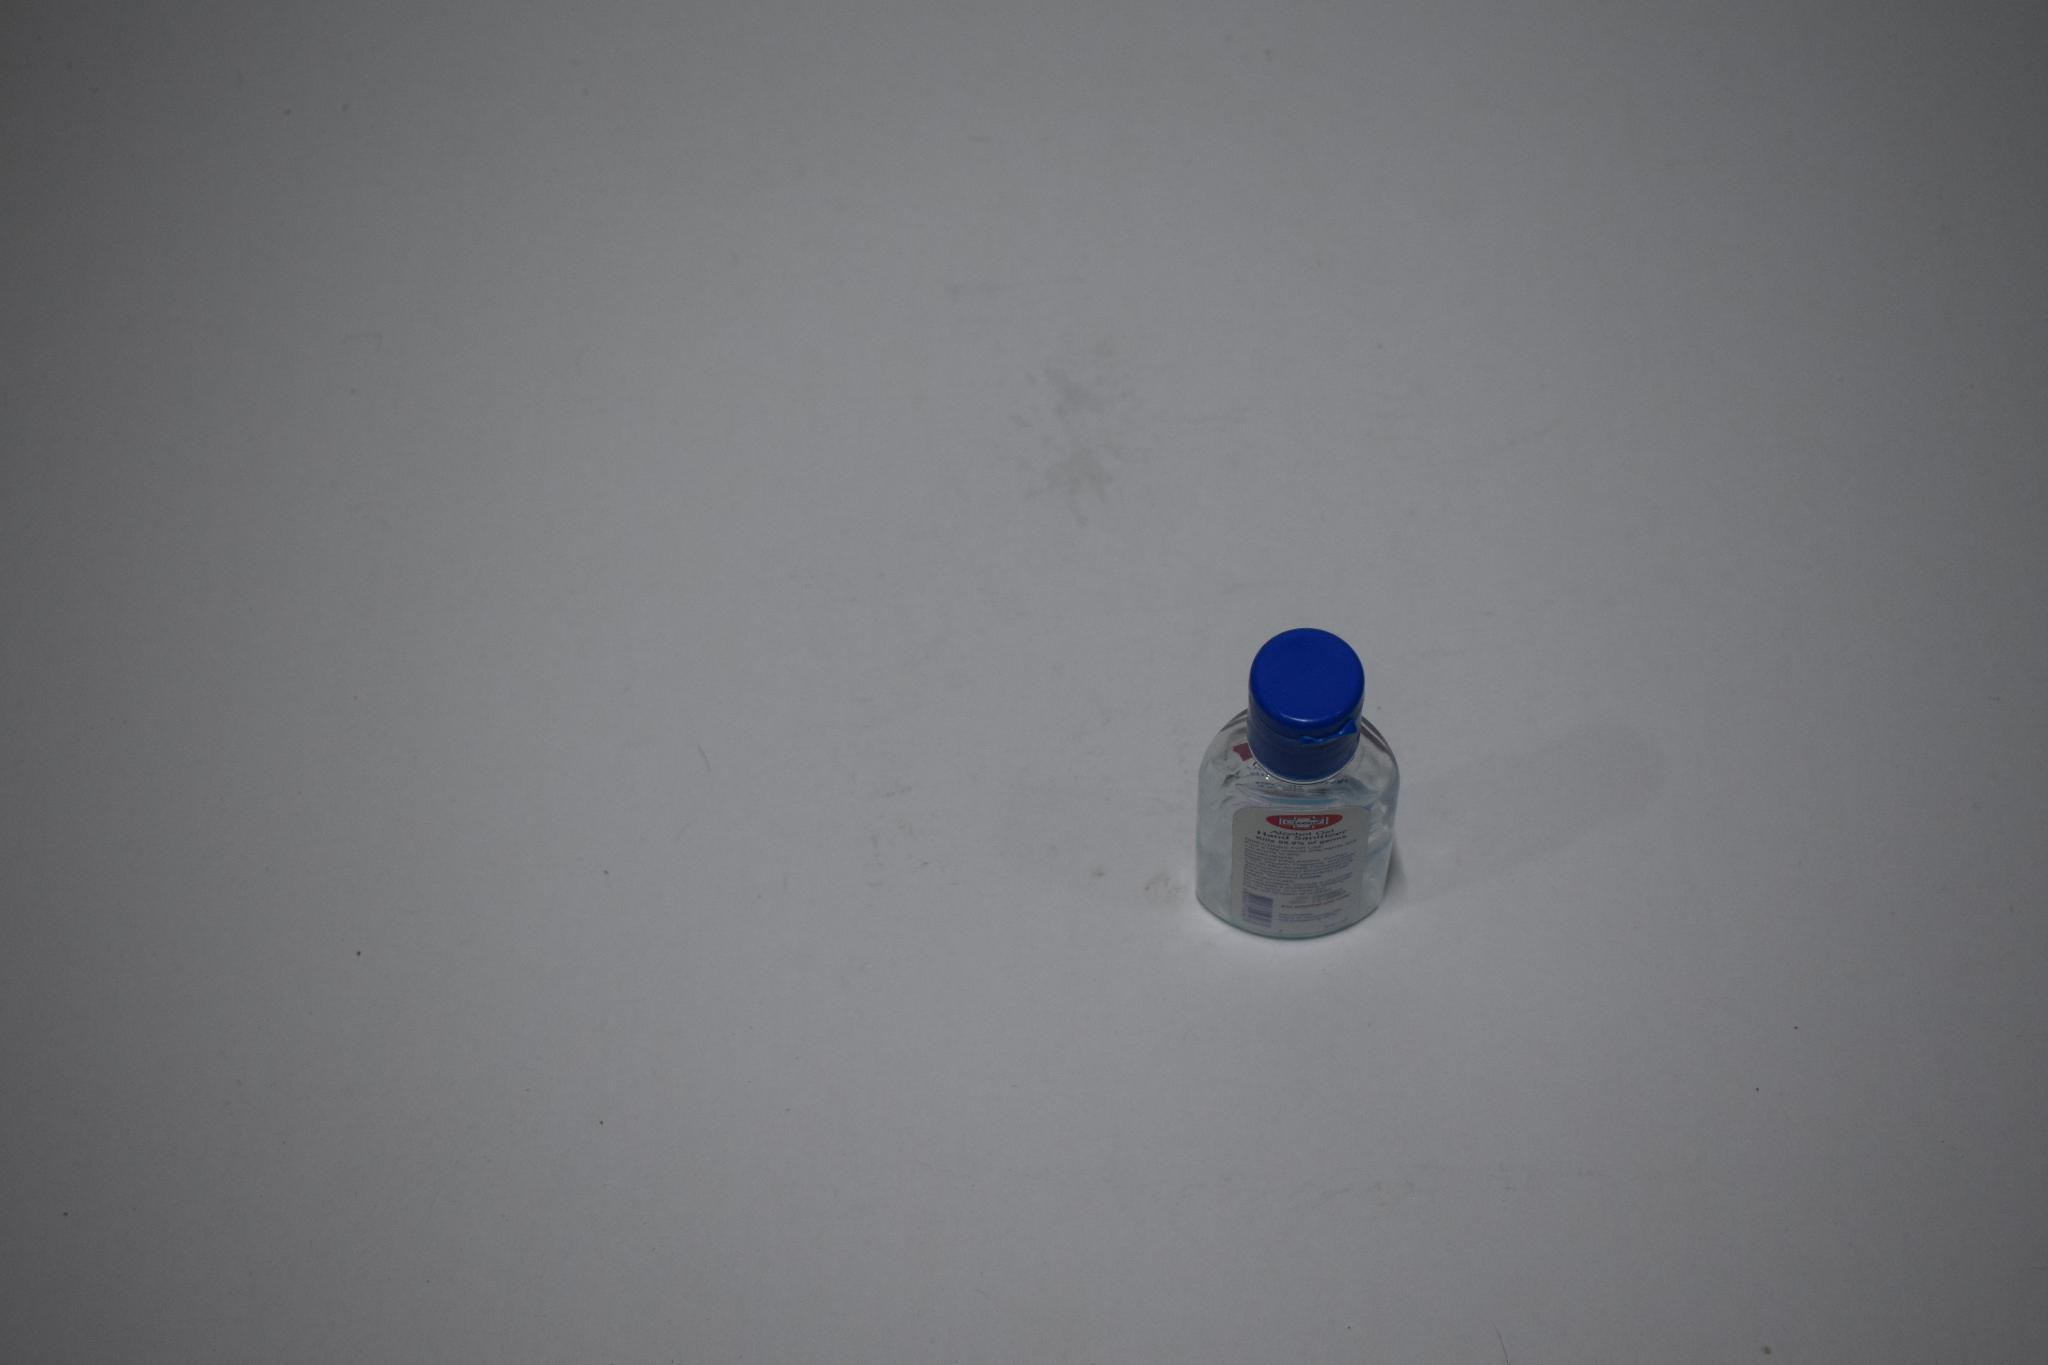bottle: (1198, 620, 1418, 964)
